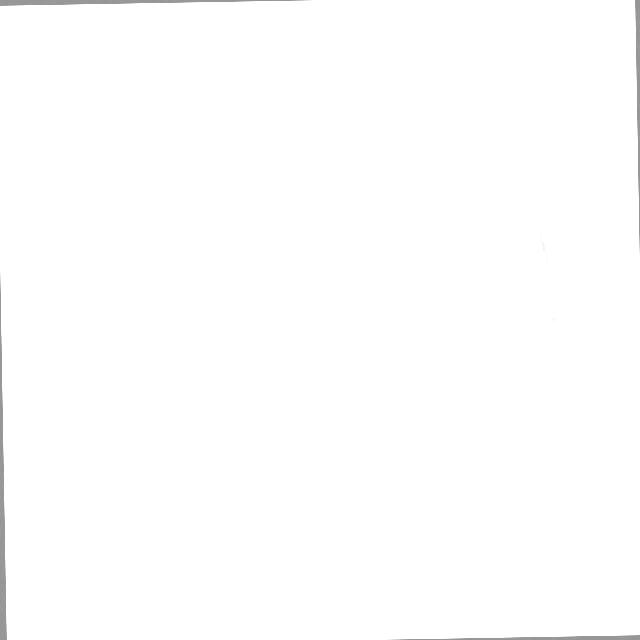COIN: (59, 61, 582, 578)
